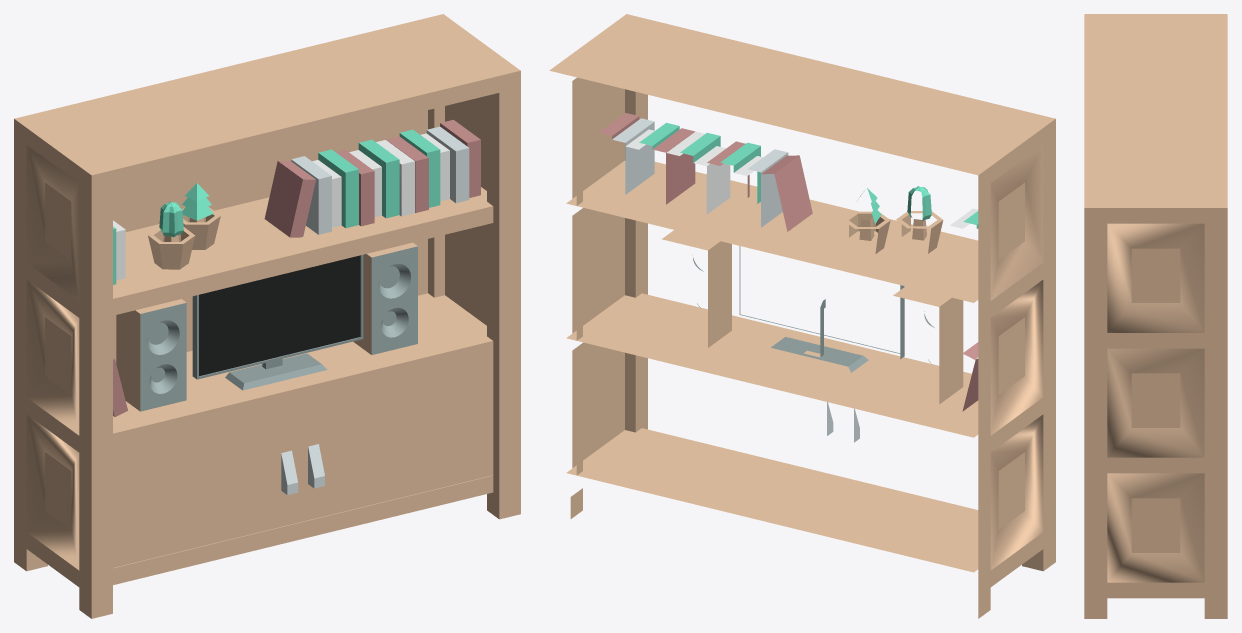
Rendered from libreria.glb.
The picture shows the model from 3 angles, left to right: view 1: azimuth 30°, elevation 25°; view 2: azimuth 150°, elevation 25°; view 3: azimuth 270°, elevation 25°; orthographic projection. The views are drawn at different scales.
Parts seen in each view (by area): view 1: libreria, doorRight, doorLeft, televisionModern(Clone), books(Clone), speakerSmall(Clone), speakerSmall(Clone).001, books(Clone).004, books(Clone).003, books(Clone).005, plantSmall2(Clone), plantSmall1(Clone) (+1 smaller); view 2: libreria, books(Clone), speakerSmall(Clone), speakerSmall(Clone).001, books(Clone).003, books(Clone).004, televisionModern(Clone), books(Clone).005, plantSmall2(Clone), plantSmall1(Clone); view 3: libreria.
Part boxes in pixels (left/top/right/bottom): libreria: left=14, top=14, right=520, bottom=618; doorRight: left=300, top=356, right=493, bottom=522; doorLeft: left=113, top=403, right=299, bottom=567; televisionModern(Clone): left=192, top=255, right=363, bottom=390; books(Clone): left=264, top=149, right=374, bottom=237; speakerSmall(Clone): left=116, top=299, right=186, bottom=411; speakerSmall(Clone).001: left=353, top=242, right=417, bottom=354; books(Clone).004: left=349, top=139, right=414, bottom=218; books(Clone).003: left=386, top=129, right=449, bottom=212; books(Clone).005: left=426, top=119, right=480, bottom=203; plantSmall2(Clone): left=148, top=202, right=195, bottom=269; plantSmall1(Clone): left=182, top=183, right=220, bottom=249; libreria: left=549, top=14, right=1055, bottom=618; books(Clone): left=707, top=141, right=812, bottom=231; speakerSmall(Clone): left=893, top=286, right=963, bottom=404; speakerSmall(Clone).001: left=662, top=230, right=731, bottom=347; books(Clone).003: left=625, top=122, right=695, bottom=204; books(Clone).004: left=666, top=131, right=730, bottom=214; televisionModern(Clone): left=739, top=246, right=904, bottom=372; books(Clone).005: left=598, top=113, right=654, bottom=194; plantSmall2(Clone): left=896, top=186, right=943, bottom=253; plantSmall1(Clone): left=843, top=188, right=890, bottom=253; libreria: left=1084, top=14, right=1227, bottom=618.
Bounding box in the file's own units: 0.8 × 0.79 × 0.2501.
